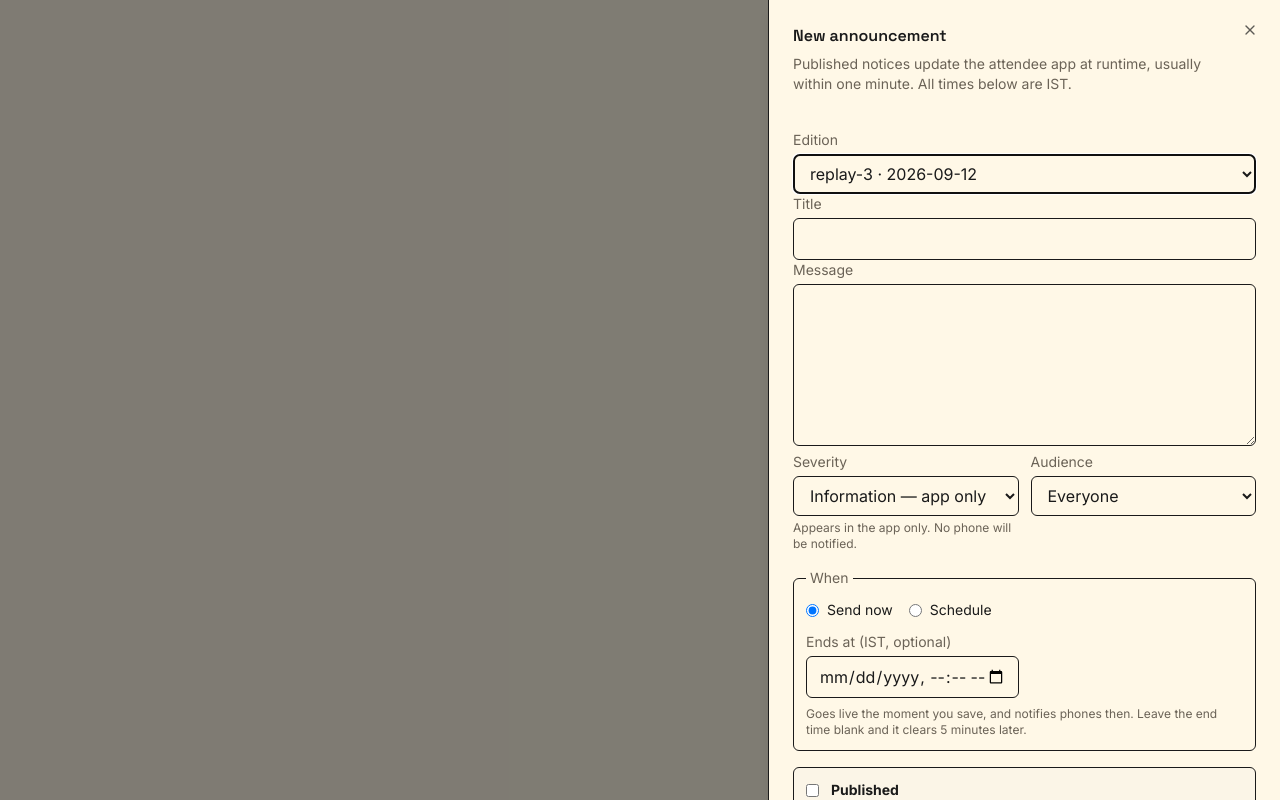
Test case: warns that an information notice reaches no phone
The image size is (1280, 800).
Check: the heading "New announcement" is shown, box [793,25,947,46]
Check: the text "Appears in the app only. No phone will be notified." is shown, box [793,520,1018,552]
Select "Urgent change — notifies phones" in the dropdown labelled "Severity" at (906, 496), box [793,476,1018,516]
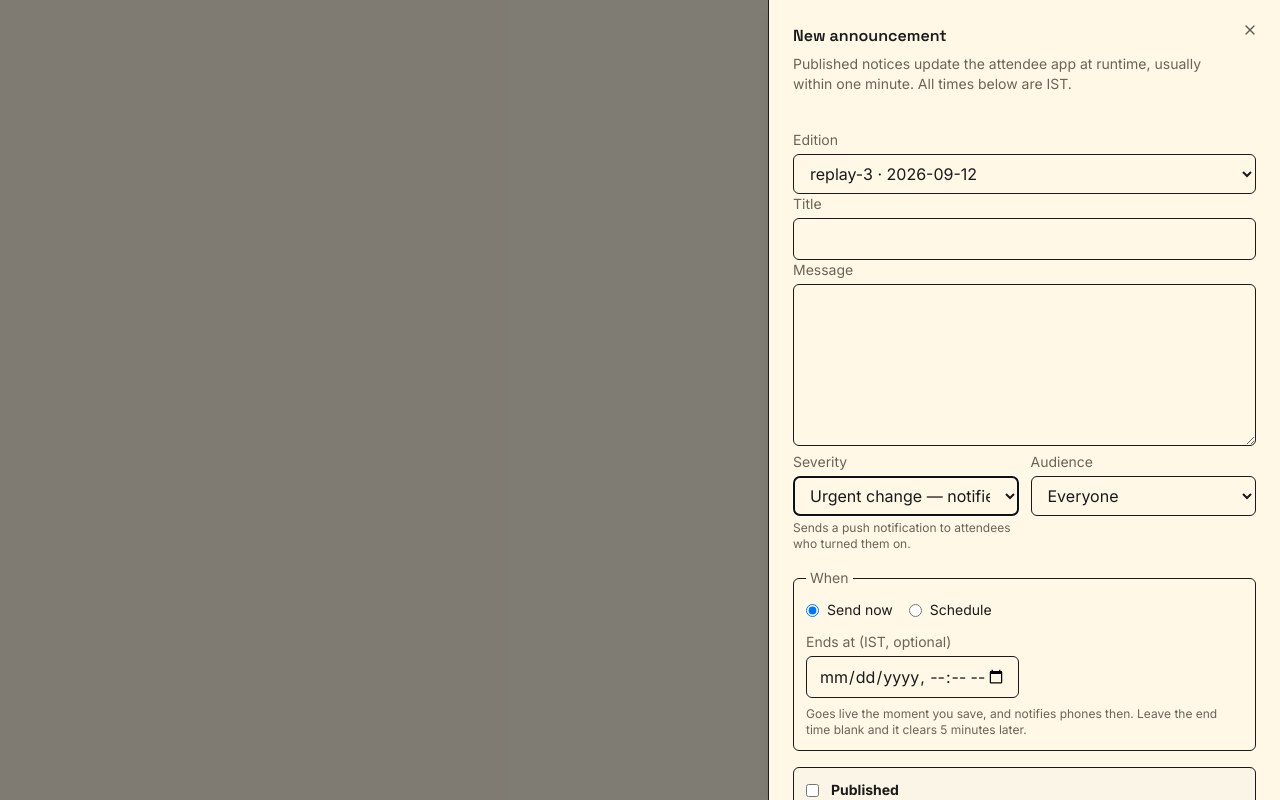
Check: the text "Sends a push notification to attendees who turned them on." is shown, box [793,520,1018,552]
